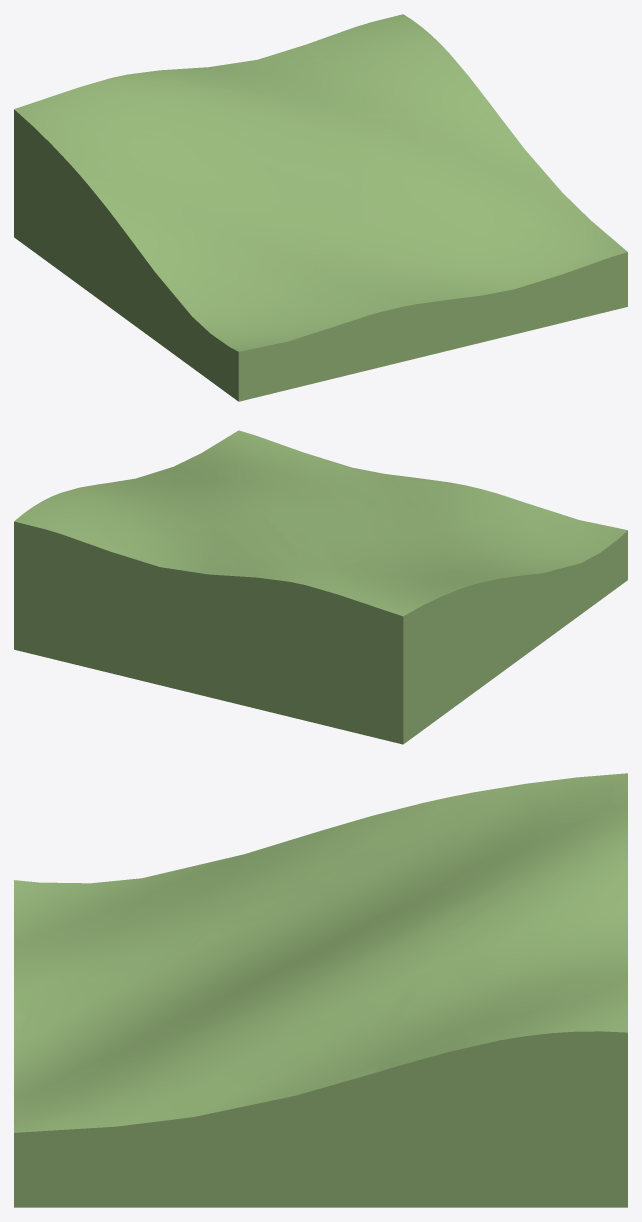
The model's file is slope.low.glb.
3 renders of one model, top to bottom at view 1: azimuth 30°, elevation 25°; view 2: azimuth 150°, elevation 25°; view 3: azimuth 270°, elevation 25°, orthographic. The views are drawn at different scales.
Parts seen in each view (by area): view 1: land_patch (×2); view 2: land_patch (×2); view 3: land_patch (×2).
Boxes of the visible parts, x1,y1,x2,y2 form: land_patch (×2): (14,14,627,401); land_patch (×2): (14,430,627,744); land_patch (×2): (14,773,627,1207).
Bounding box in the file's own units: 2.4 × 0.7991 × 2.4.
